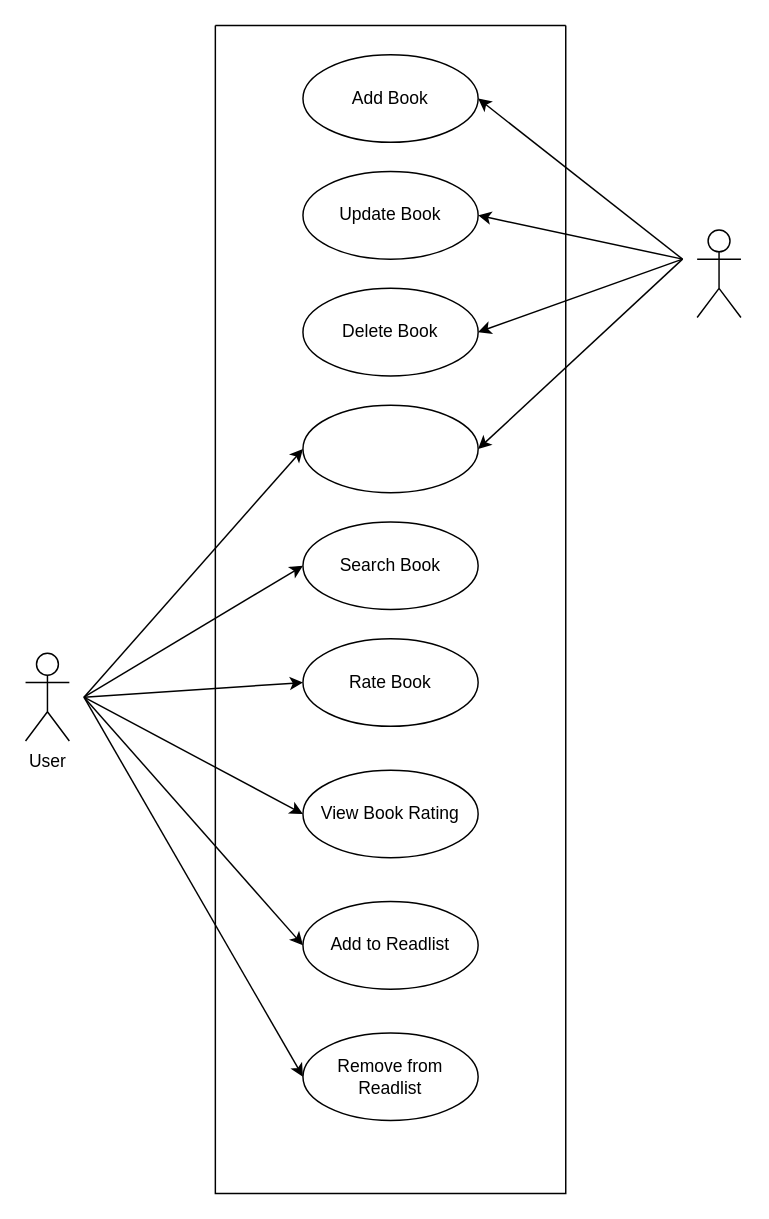
This 769x1219 diagram has some shape labels left out. The box of each missing label's shape, as (x1, y1, x2, y2) in pixels:
Admin: (696, 228, 741, 318)
View Book: (301, 404, 478, 493)
